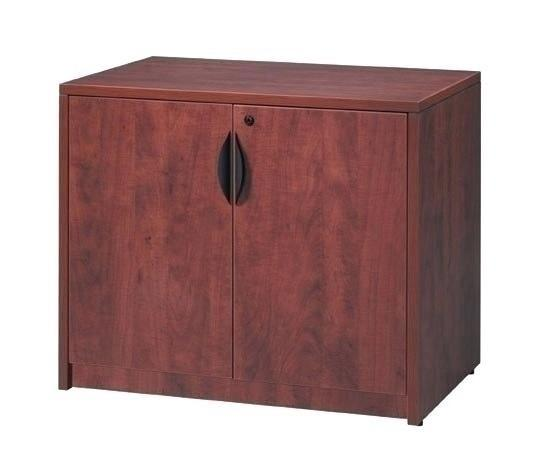cabinet_door: (239, 109, 412, 377), (67, 101, 233, 370)
handle: (215, 132, 237, 205), (233, 133, 254, 207)
